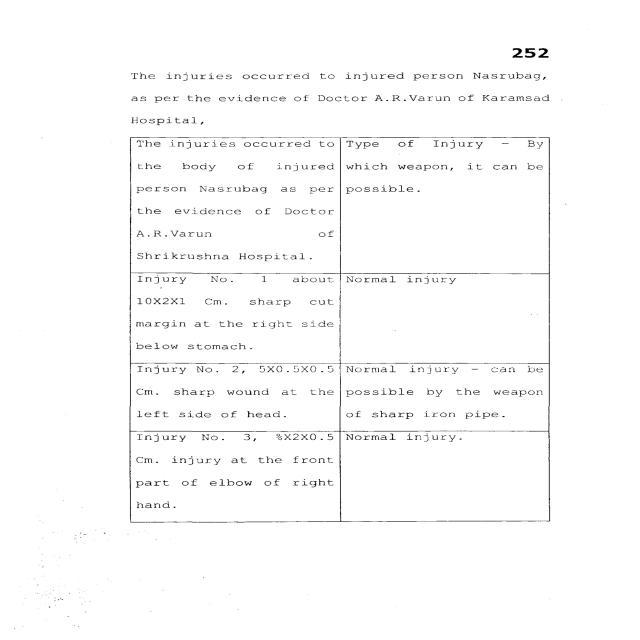page-number: (426, 1, 635, 66)
